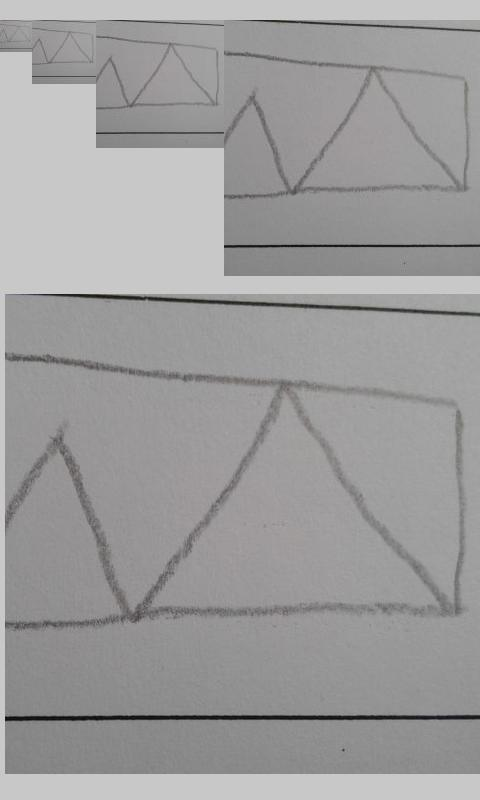image_view: (6, 352, 469, 644), (225, 47, 472, 205), (97, 35, 220, 110), (33, 27, 94, 66), (1, 23, 31, 44)
